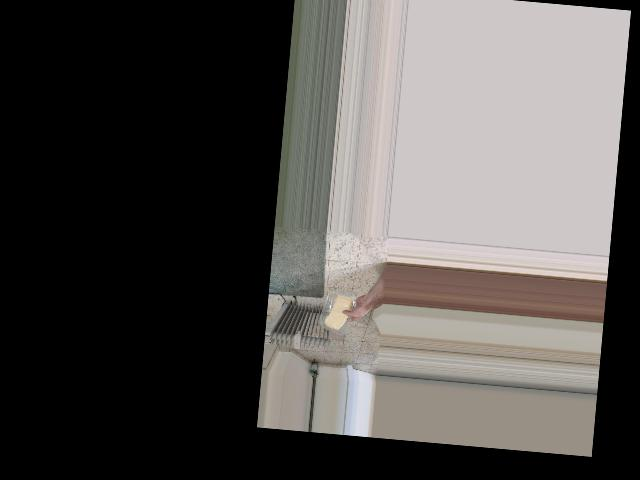cheese: (322, 291, 355, 334)
